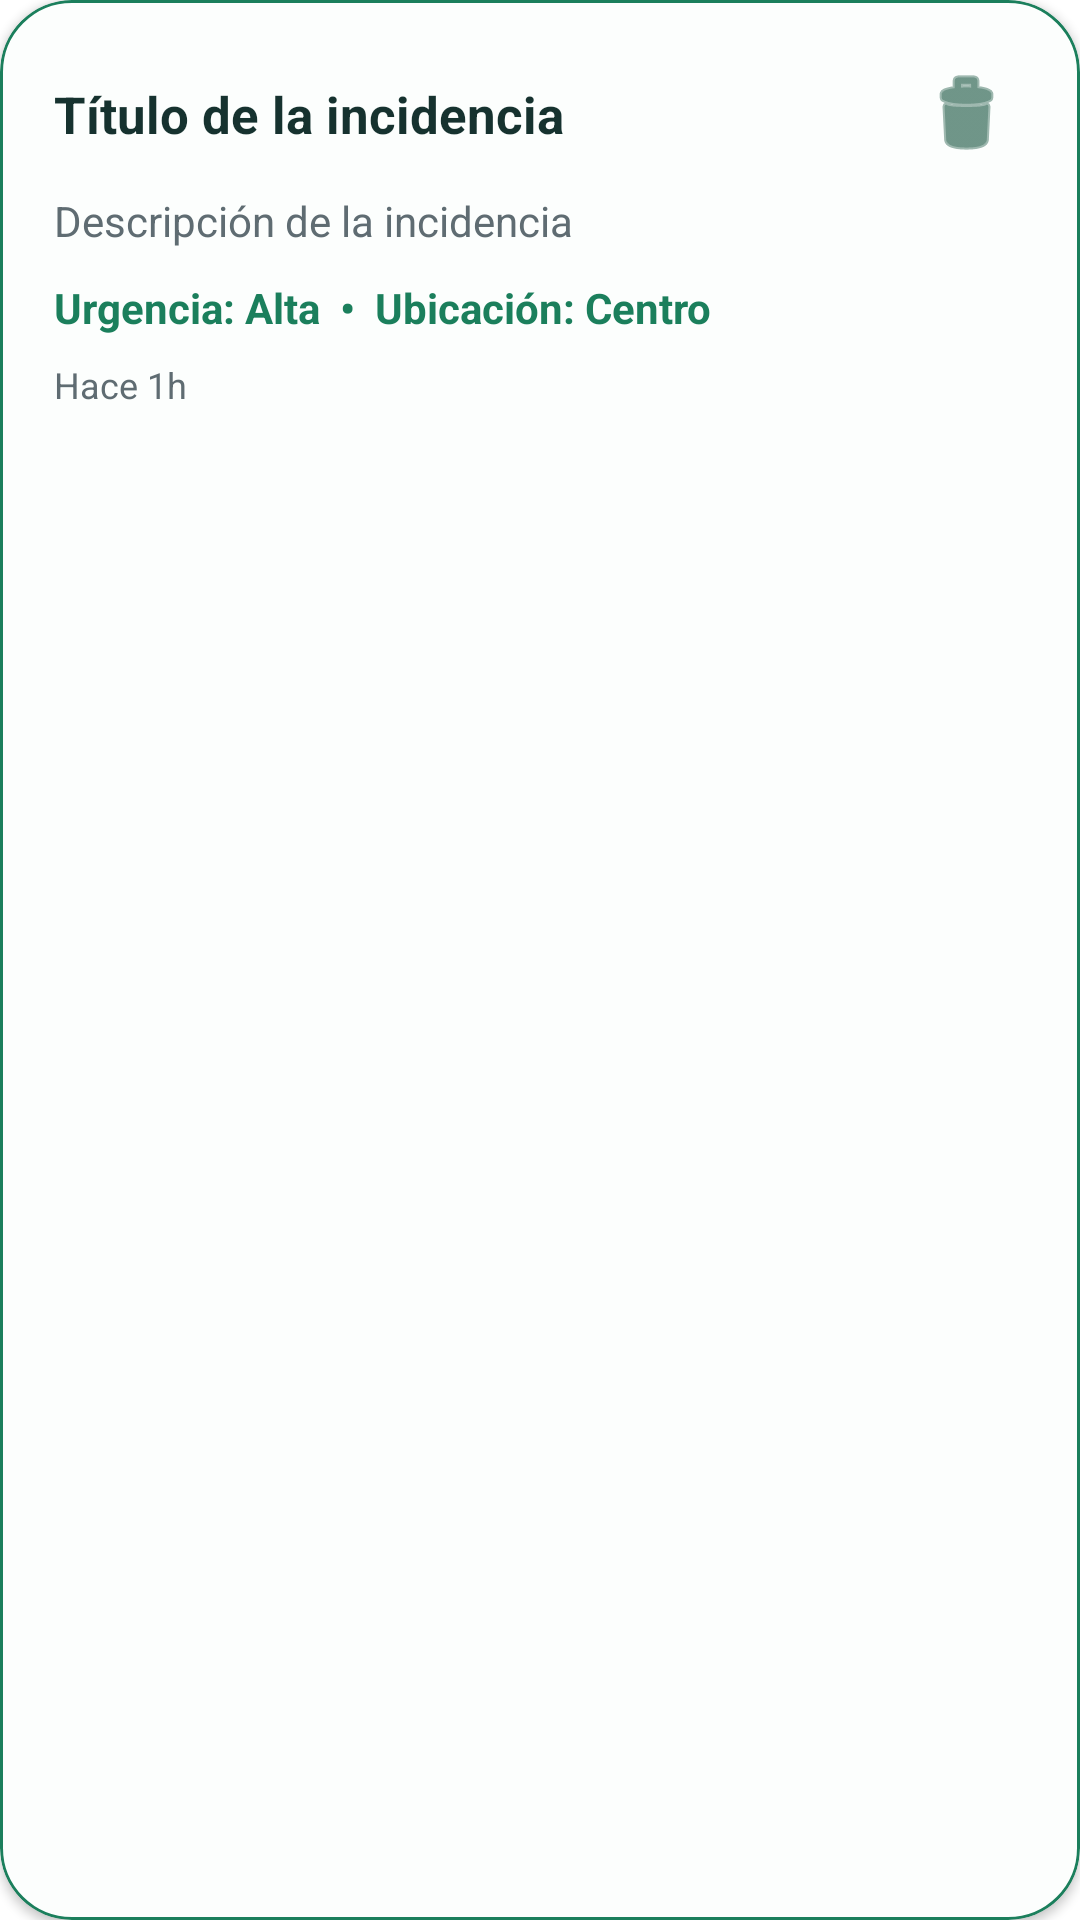

Icons on this 1080*1920 Android screen, each with the point to tap as (x=x, y=y):
Eliminar: (x=966, y=112)
